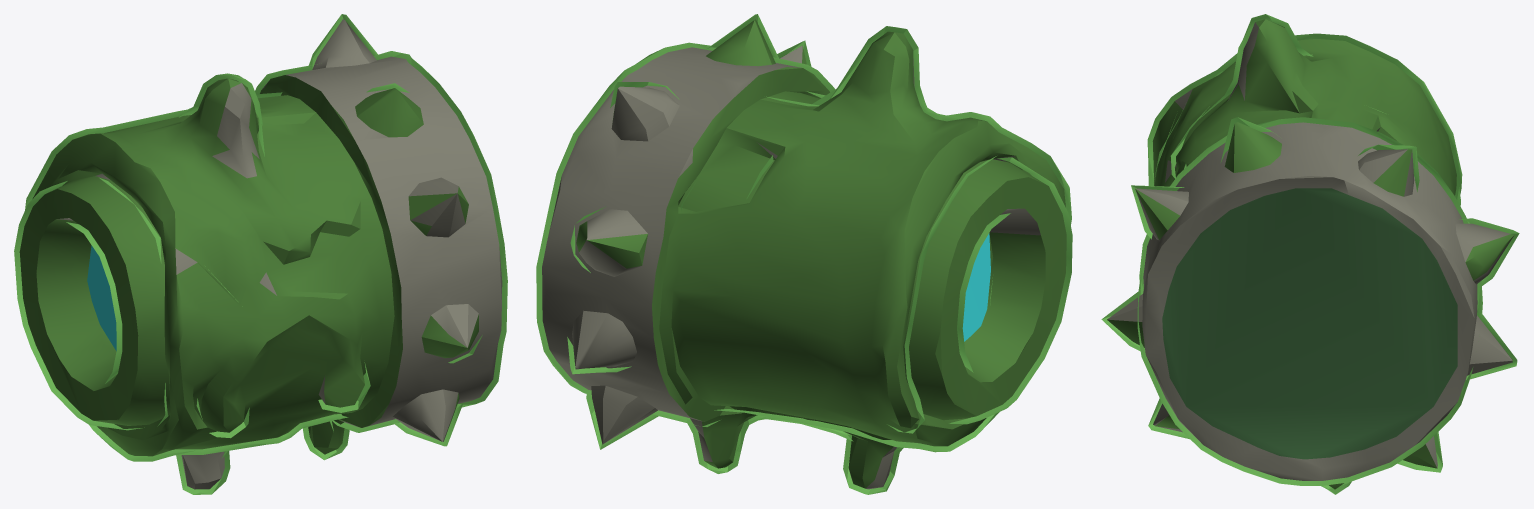
File: cañonBoss.glb
3 renders of one model, left to right at view 1: azimuth 30°, elevation 25°; view 2: azimuth 150°, elevation 25°; view 3: azimuth 270°, elevation 25°, orthographic. The views are drawn at different scales.
Visible parts, largest first — view 1: tripo_node_867761ee-02eb-4564-a831-1211344df159.001; view 2: tripo_node_867761ee-02eb-4564-a831-1211344df159.001; view 3: tripo_node_867761ee-02eb-4564-a831-1211344df159.001.
Part boxes in pixels (x1,y1,x2,y2): tripo_node_867761ee-02eb-4564-a831-1211344df159.001: [14, 14, 507, 494]; tripo_node_867761ee-02eb-4564-a831-1211344df159.001: [536, 14, 1072, 494]; tripo_node_867761ee-02eb-4564-a831-1211344df159.001: [1101, 14, 1519, 494].
Bounding box in the file's own units: 0.9223 × 1.04 × 0.9513.
2 materials, 1 textured.
